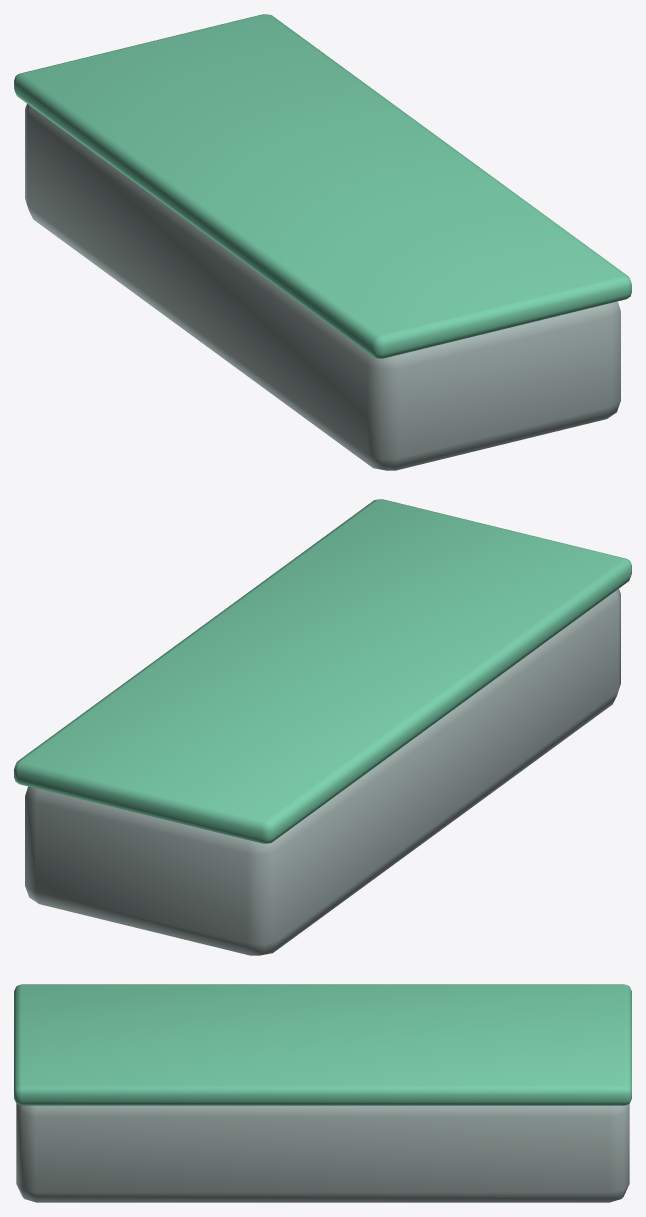
File: StoneTile.fbx
3 renders of one model, top to bottom at view 1: azimuth 30°, elevation 25°; view 2: azimuth 150°, elevation 25°; view 3: azimuth 270°, elevation 25°, orthographic. The views are drawn at different scales.
Visible parts, largest first — view 1: Moss, Stone; view 2: Moss, Stone; view 3: Moss, Stone.
Boxes of the visible parts, bbox=[...] form: Moss: bbox=[14, 14, 631, 358]; Stone: bbox=[25, 104, 620, 470]; Moss: bbox=[14, 499, 631, 843]; Stone: bbox=[25, 589, 620, 955]; Moss: bbox=[14, 984, 631, 1105]; Stone: bbox=[16, 1104, 629, 1202].
Size of the model in its own units: 1.03 by 0.555 by 2.52.
